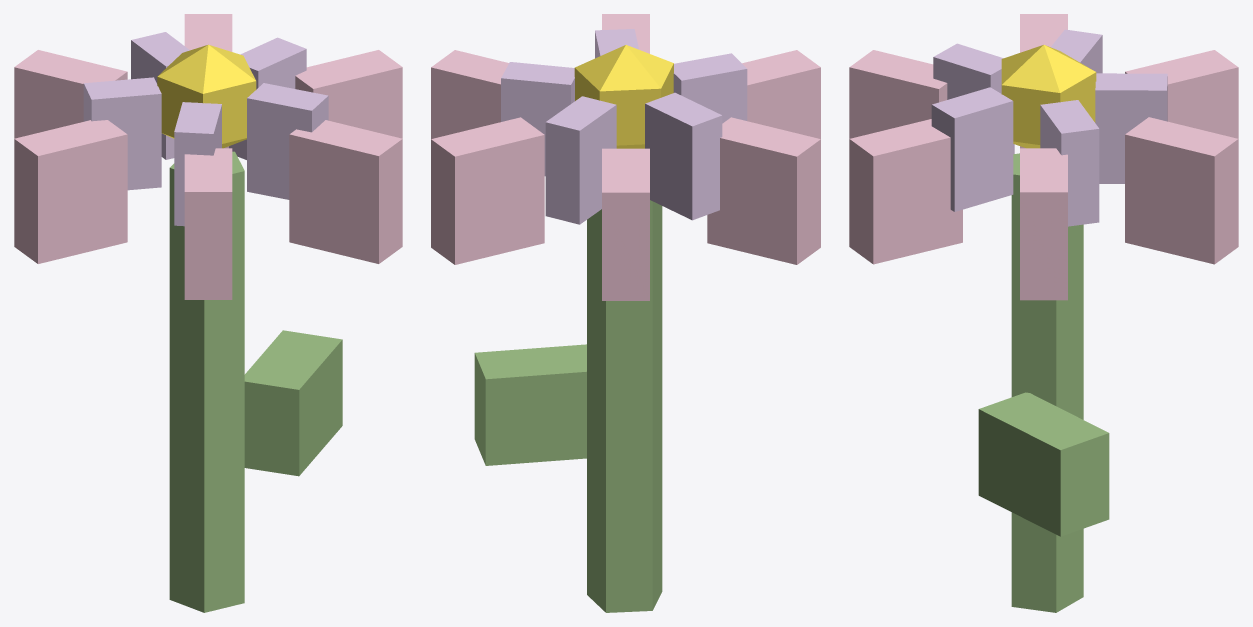
File: flower_round.glb
3 renders of one model, left to right at view 1: azimuth 30°, elevation 25°; view 2: azimuth 150°, elevation 25°; view 3: azimuth 270°, elevation 25°, orthographic.
Visible parts, largest first — view 1: Flower_Round; view 2: Flower_Round; view 3: Flower_Round.
Part boxes in pixels (bbox=[...]): Flower_Round: bbox=[14, 14, 402, 612]; Flower_Round: bbox=[431, 14, 820, 612]; Flower_Round: bbox=[849, 14, 1238, 612].
Size of the model in its own units: 0.265 by 0.383 by 0.2445.
